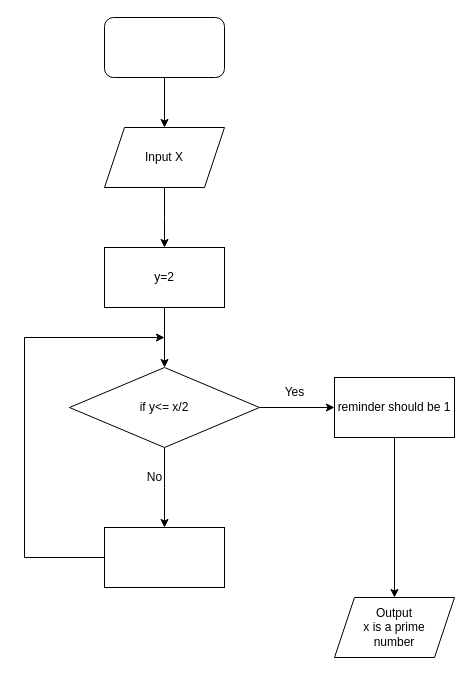
This 472x675 diagram has some shape labels left out. Each missing label, with the box of its shape:
if reminder is not equal to 0 y=y+1: (104, 526, 224, 588)
Start: (104, 16, 224, 78)
